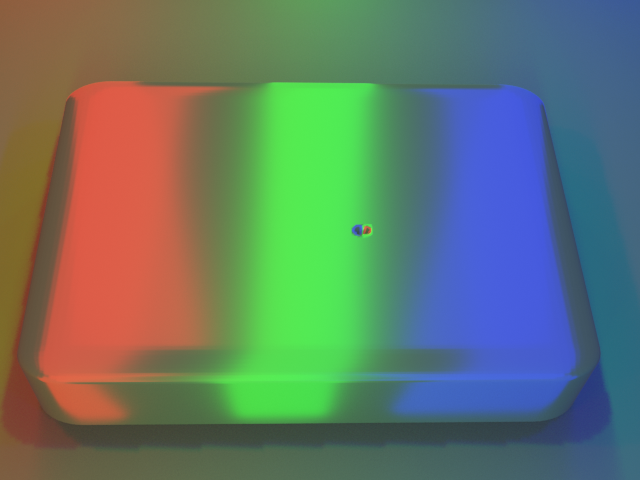dent: (342, 214, 385, 257)
